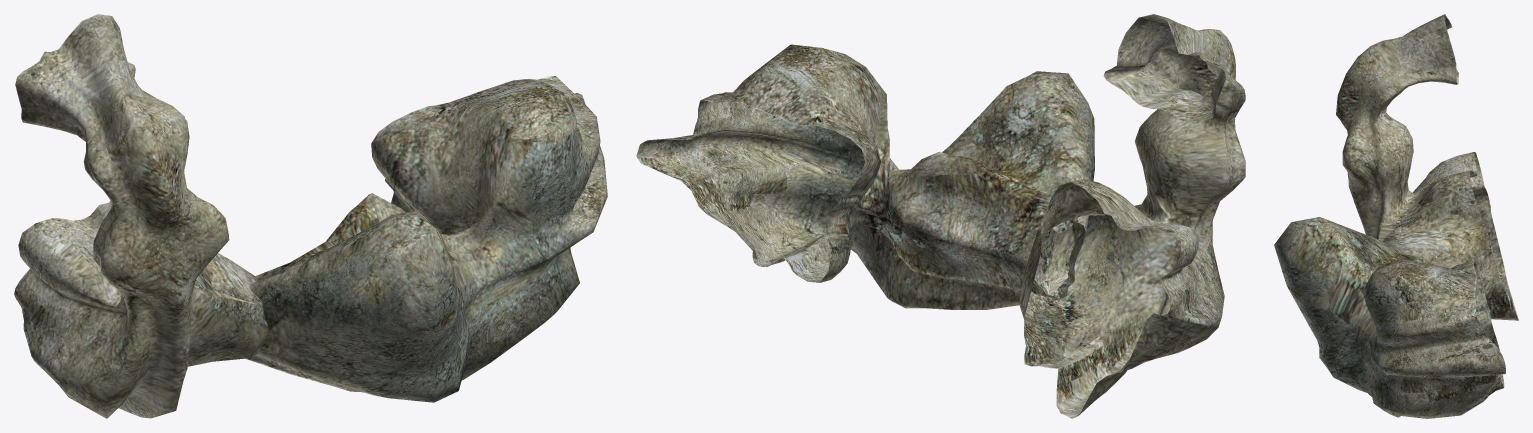
The model's file is waterfall_rock_arch_1.obj.
The picture shows the model from 3 angles, left to right: view 1: azimuth 30°, elevation 25°; view 2: azimuth 150°, elevation 25°; view 3: azimuth 270°, elevation 25°; orthographic projection. The views are drawn at different scales.
Visible parts, largest first — view 1: rock1_obj.001; view 2: rock1_obj.001; view 3: rock1_obj.001.
Part boxes in pixels (box(x1,y1,x2,y2)): rock1_obj.001: box(14, 14, 607, 418); rock1_obj.001: box(636, 14, 1245, 418); rock1_obj.001: box(1274, 14, 1518, 418).
Size of the model in its own units: 1.07 by 0.7125 by 0.5397.
